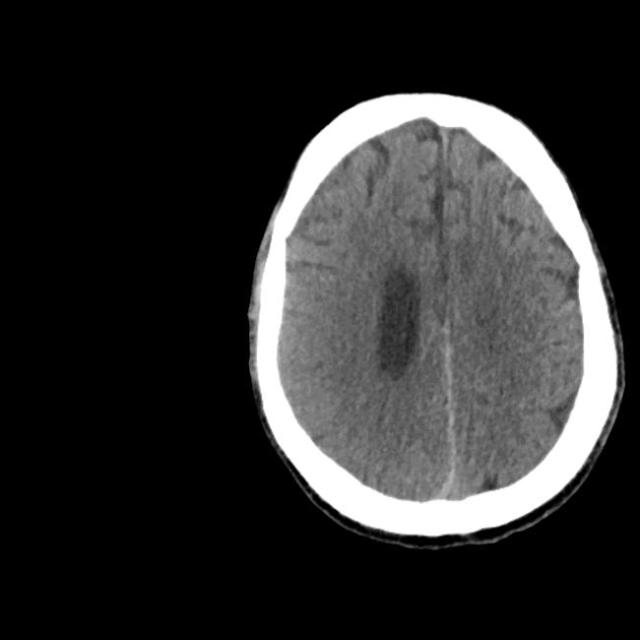lesion: (242, 88, 626, 550)
